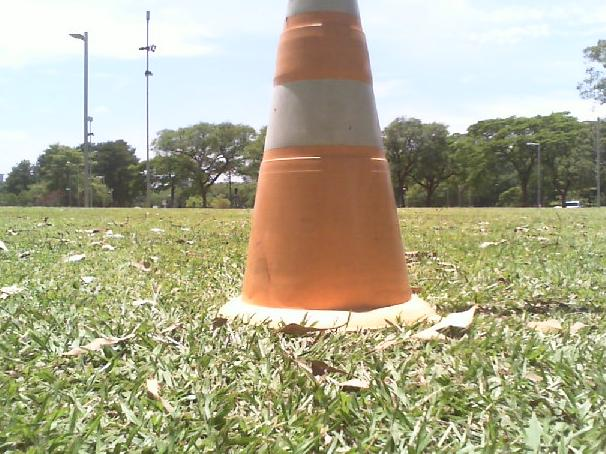0 cone: (215, 0, 440, 336)
